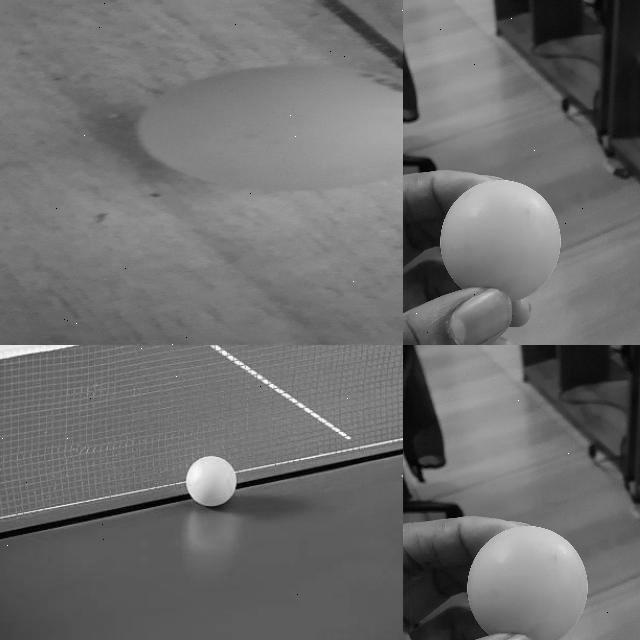ping-pong-ball: (136, 67, 402, 190), (441, 178, 561, 302), (468, 524, 589, 639), (186, 457, 236, 507)
